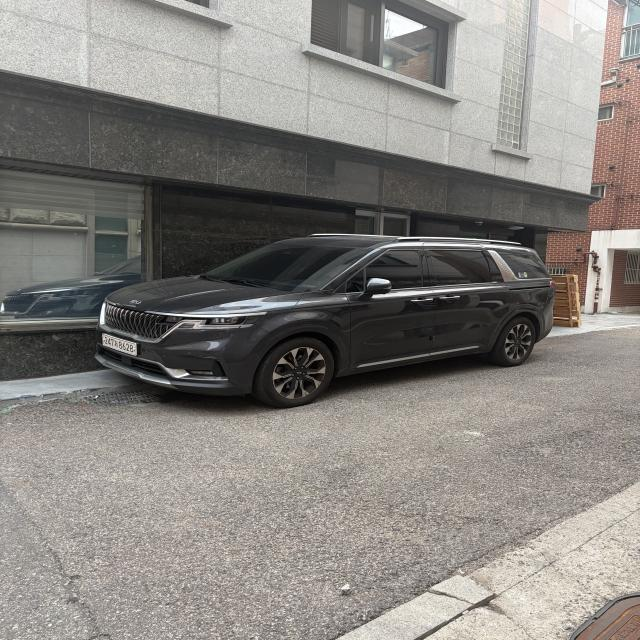car: (92, 203, 590, 430)
